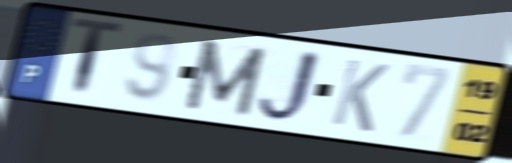7: (397, 61, 457, 144)
9: (122, 32, 180, 105)
J: (253, 46, 325, 127)
K: (327, 55, 392, 136)
M: (180, 36, 271, 119)
T: (68, 15, 127, 103)
